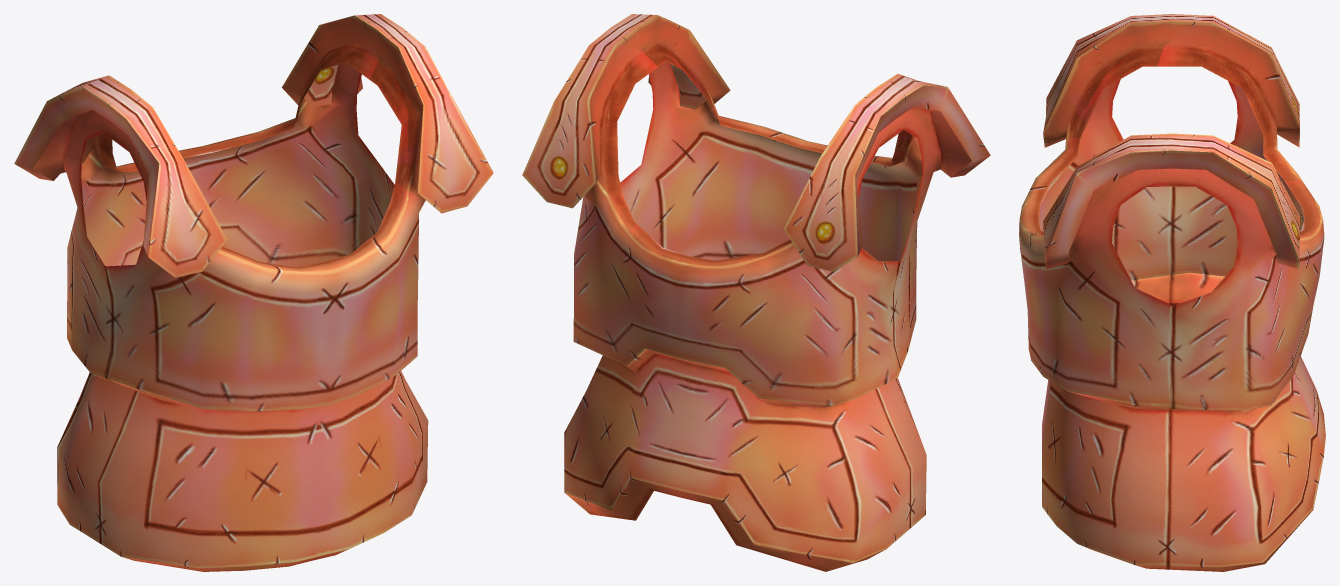
File: Armor.fbx
3 views of the same model, side by side, from view 1: azimuth 30°, elevation 25°; view 2: azimuth 150°, elevation 25°; view 3: azimuth 270°, elevation 25° (orthographic). The views are drawn at different scales.
Parts seen in each view (by area): view 1: Chest; view 2: Chest; view 3: Chest.
Part boxes in pixels (box(x1,y1,x2,y2)): Chest: box(14, 14, 493, 571); Chest: box(522, 14, 990, 571); Chest: box(1019, 14, 1325, 571).
Bounding box in the file's own units: 0.4177 × 0.5088 × 0.6478.
